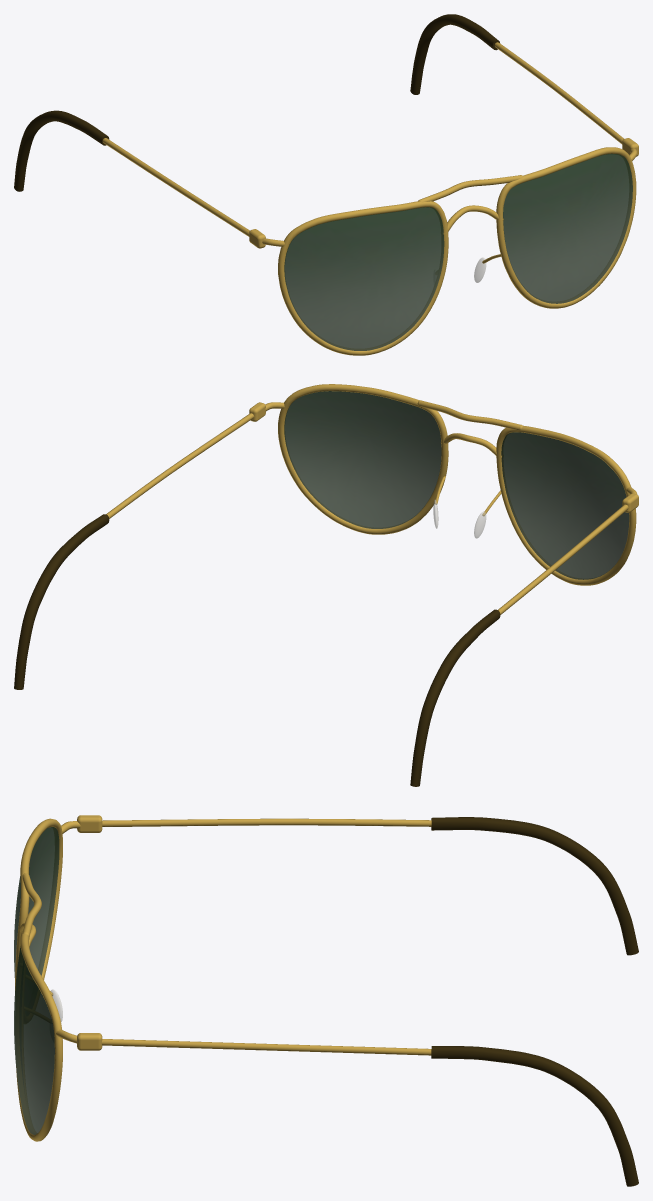
Rendered from classic-aviator-sunglasses.glb.
3 views of the same model, one above another, from view 1: azimuth 30°, elevation 25°; view 2: azimuth 150°, elevation 25°; view 3: azimuth 270°, elevation 25° (orthographic). The views are drawn at different scales.
Parts seen in each view (by area): view 1: lenses, frame, temple-tips, object 5; view 2: lenses, frame, temple-tips, object 5; view 3: frame, lenses, temple-tips, object 5.
Boxes of the visible parts, x1,y1,x2,y2 form: lenses: (284,153,632,350); frame: (102,42,638,355); temple-tips: (14,14,499,191); object 5: (418,175,522,202); lenses: (284,391,629,579); frame: (106,384,638,614); temple-tips: (14,514,500,786); object 5: (417,400,522,430); frame: (15,815,431,1141); lenses: (14,827,59,1134); temple-tips: (431,817,638,1186); object 5: (22,873,41,936).
Size of the model in its own units: 0.1503 by 0.0516 by 0.1674.
